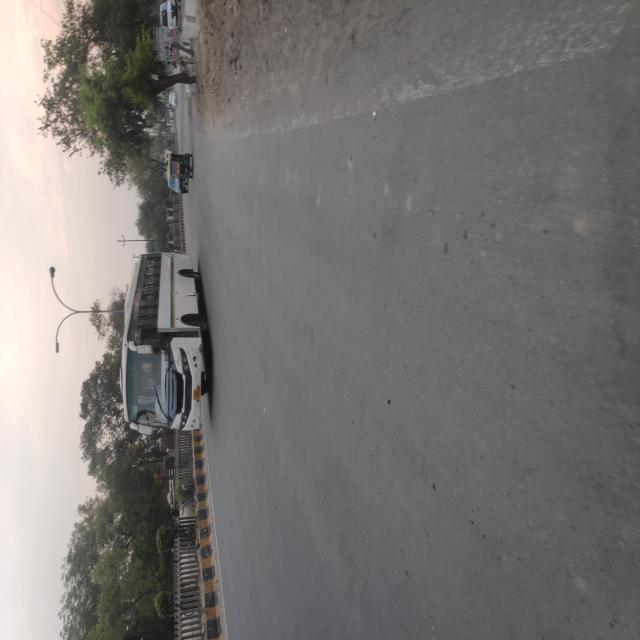Bus: (139, 142, 295, 280)
